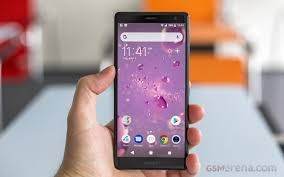sony: (112, 9, 189, 174)
